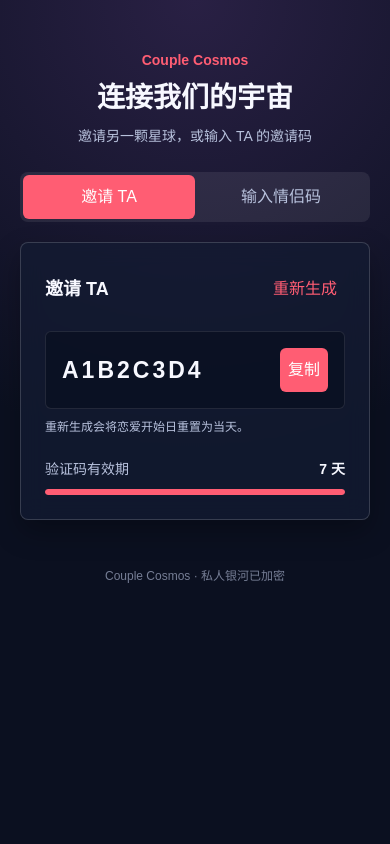
Test: 情侣绑定页面 › 只允许提交恰好 8 位的情侣码，并在错误后保持可再次操作
This screenshot has width=390, height=844.
Click the button "输入情侣码".
click(281, 197)  # box [195, 175, 367, 219]
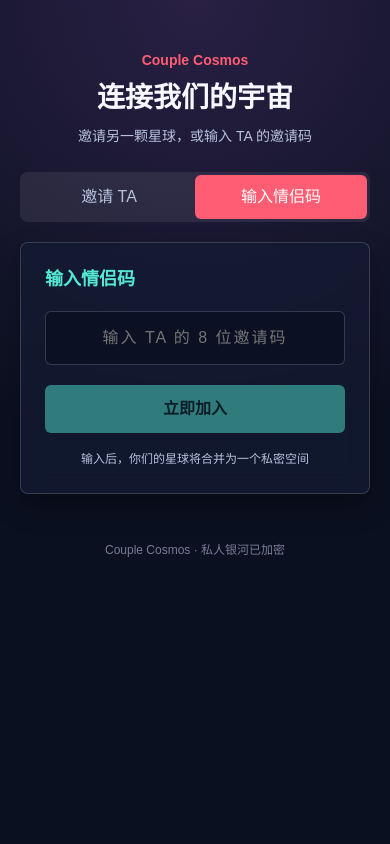
Type "A1B2" into the field with test id "partner-code-input".
click(195, 338); type("A1B2")  # box [45, 311, 345, 365]
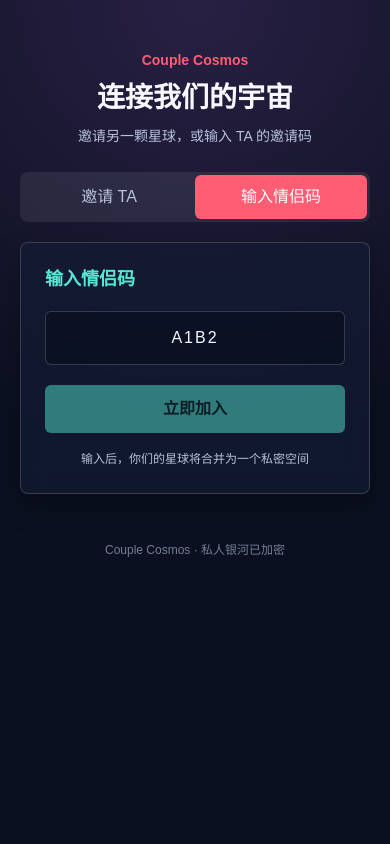
Expected: the button with test id "bind-submit" is disabled, [45, 385, 345, 433]
Replace the text in the field with test id "partner-code-input" with "A1B2C3D4" at (195, 338), box [45, 311, 345, 365]
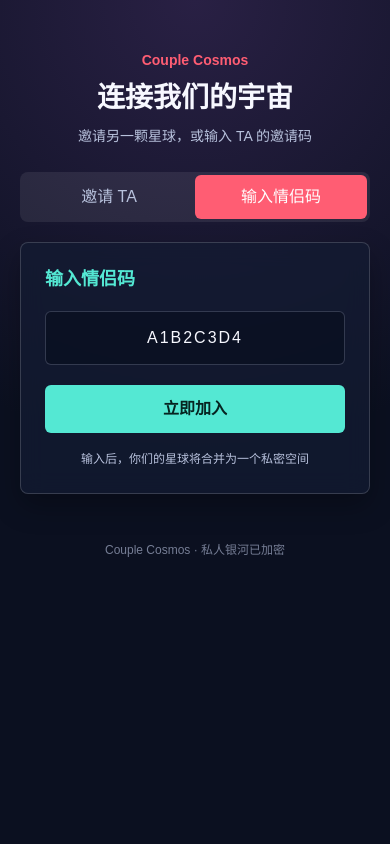
Click the button with test id "bind-submit".
click(195, 409)  # box [45, 385, 345, 433]
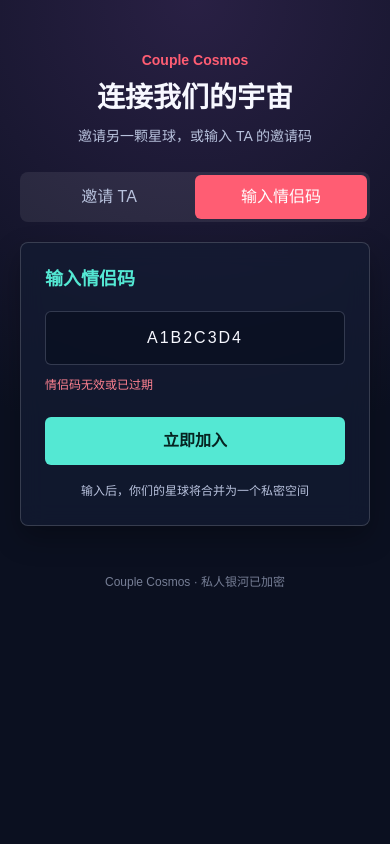
Expected: the button with test id "bind-submit" is enabled, [45, 417, 345, 465]
Expected: the text with test id "bind-error" reads "情侣码无效或已过期", [45, 378, 153, 392]
